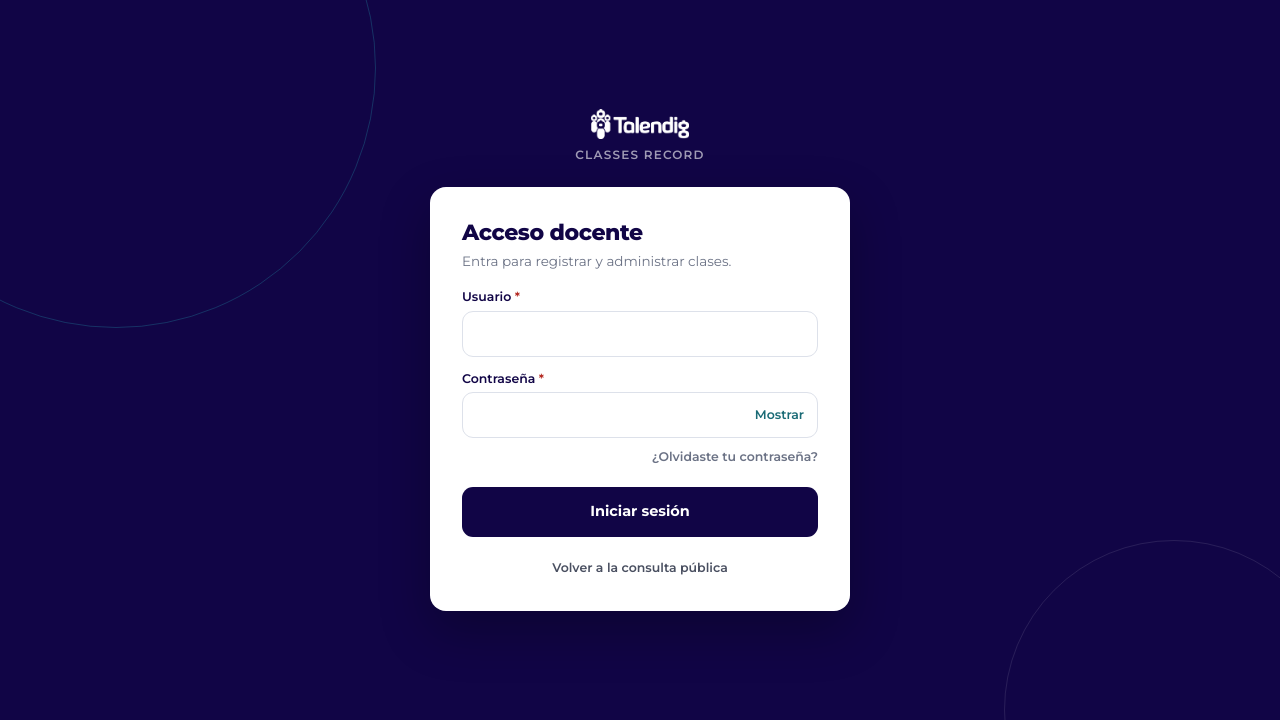
LoginPage › asks for a username before submitting anything
The width and height of the screenshot is (1280, 720).
Step 1. Click the button "Iniciar sesión" → (640, 512), box [462,487,818,537]
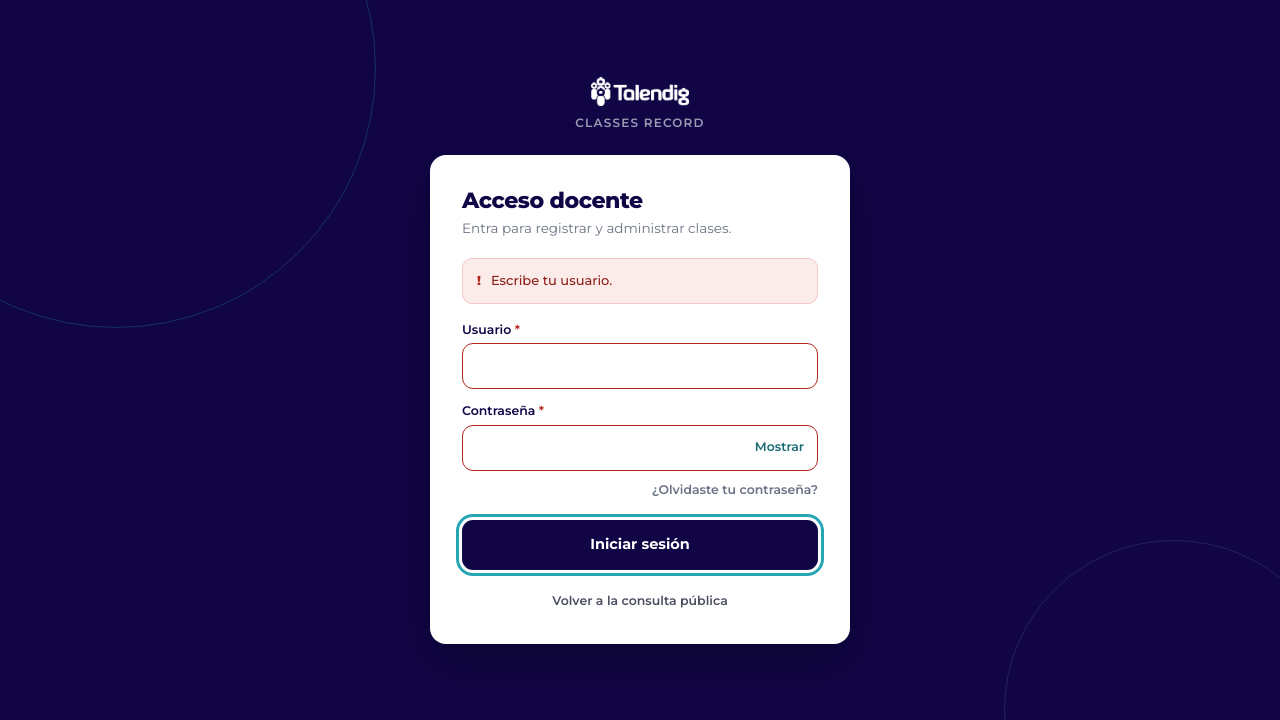
Now the text "Escribe tu usuario." is shown, box [491,271,612,291]
